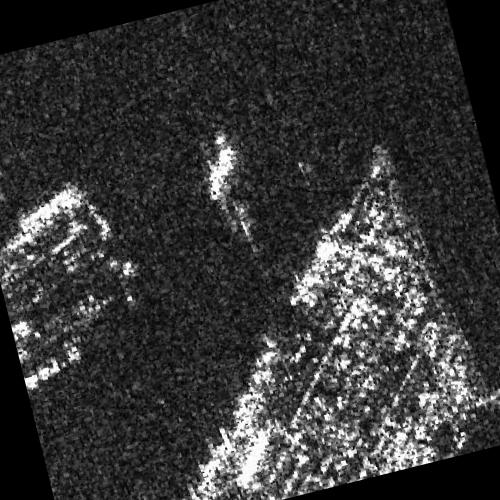ship: (208, 145, 238, 202)
